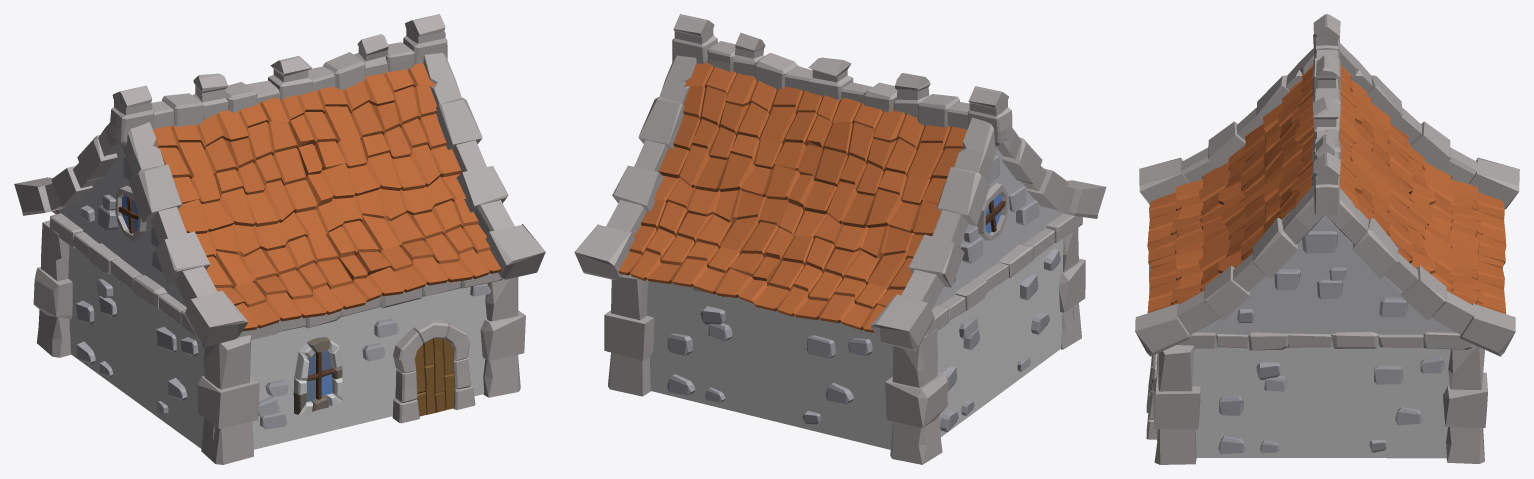
Rendered from House_Modular_01.glb.
3 renders of one model, left to right at view 1: azimuth 30°, elevation 25°; view 2: azimuth 150°, elevation 25°; view 3: azimuth 270°, elevation 25°, orthographic. The views are drawn at different scales.
Parts seen in each view (by area): view 1: House_Modular_01; view 2: House_Modular_01; view 3: House_Modular_01.
Part boxes in pixels (x1,y1,x2,y2): House_Modular_01: (14, 14, 545, 464); House_Modular_01: (574, 14, 1106, 464); House_Modular_01: (1135, 14, 1519, 464).
Bounding box in the file's own units: 11.79 × 10.46 × 12.09.
1 material, 1 textured.
